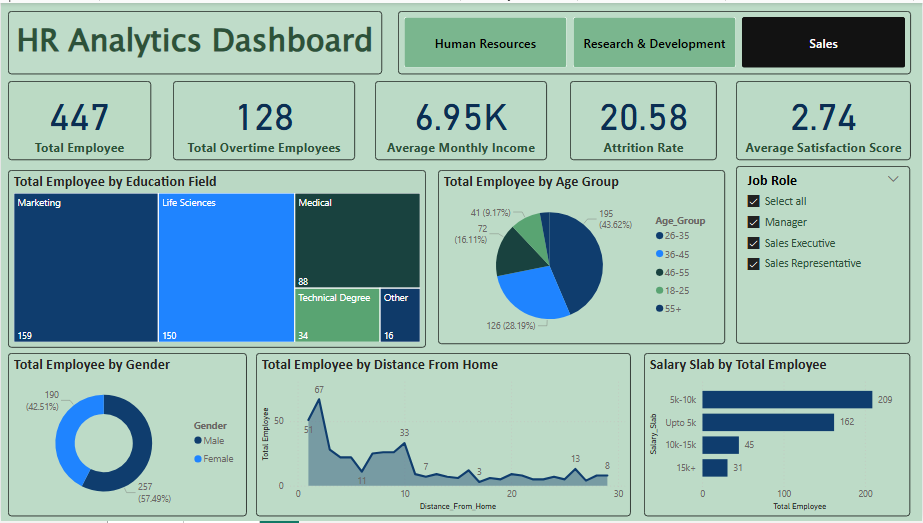

The page's visual inventory and layout, read from the dashboard file:
{"tool":"powerbi","page":{"name":"Page 1","canvas":[1280,720],"ordinal":0},"visuals":[{"type":"textbox","box":[9.7,11.1,519.8,87.6],"z":0},{"type":"card","fields":{"Values":["HR_Analytics.Total Employee"]},"box":[9.7,108.4,198.8,109.8],"z":1000},{"type":"card","fields":{"Values":["HR_Analytics.Attrition Rate"]},"box":[790.9,108.4,204.3,109.8],"z":2000},{"type":"card","fields":{"Values":["HR_Analytics.Total Overtime Employees"]},"box":[239.1,108.4,253,109.8],"z":3000},{"type":"card","fields":{"Values":["HR_Analytics.Average Monthly Income"]},"box":[519.8,108.4,239.1,109.8],"z":4000},{"type":"donutChart","fields":{"Category":["HR_Analytics.Gender"],"Y":["HR_Analytics.Total Employee"]},"box":[9.7,486.5,332.2,226.6],"z":5000},{"type":"pieChart","title":"Total Employee by Age Group","fields":{"Category":["HR_Analytics.Age_Group"],"Y":["HR_Analytics.Total Employee"]},"box":[607.4,232.1,398.9,241.9],"z":6000},{"type":"treemap","title":"Total Employee by Education Field","fields":{"Group":["HR_Analytics.Education_Field"],"Values":["HR_Analytics.Total Employee"]},"box":[9.7,232.1,581,247.4],"z":7000},{"type":"advancedSlicerVisual","fields":{"Values":["HR_Analytics.Department"]},"box":[551.8,11.1,713.1,87.6],"z":8000},{"type":"areaChart","title":"Total Employee by Distance From Home","fields":{"Category":["HR_Analytics.Distance_From_Home"],"Y":["HR_Analytics.Total Employee"]},"box":[354.4,486.5,521.2,226.6],"z":9000},{"type":"clusteredBarChart","title":"Salary Slab by Total Employee","fields":{"Category":["HR_Analytics.Salary_Slab"],"Y":["HR_Analytics.Total Employee"]},"box":[893.7,486.5,369.7,226.6],"z":10000},{"type":"slicer","fields":{"Values":["HR_Analytics.Job_Role"]},"box":[1021.6,226.6,241.9,247.4],"z":11000},{"type":"card","fields":{"Values":["HR_Analytics.Average Satisfaction Score"]},"box":[1021.6,108.4,243.2,109.8],"z":13000}]}

Visuals, with their boxes in screenshot pixels (x1, y1, x2, y2), scaled from the page's 1280x720 canvas onto the 923x523 screenshot:
textbox: [x1=7, y1=8, x2=382, y2=72]
card - HR_Analytics.Total Employee: [x1=7, y1=79, x2=150, y2=158]
card - HR_Analytics.Attrition Rate: [x1=570, y1=79, x2=718, y2=158]
card - HR_Analytics.Total Overtime Employees: [x1=172, y1=79, x2=355, y2=158]
card - HR_Analytics.Average Monthly Income: [x1=375, y1=79, x2=547, y2=158]
donutChart - HR_Analytics.Gender x HR_Analytics.Total Employee: [x1=7, y1=353, x2=247, y2=518]
"Total Employee by Age Group" pieChart: [x1=438, y1=169, x2=726, y2=344]
"Total Employee by Education Field" treemap: [x1=7, y1=169, x2=426, y2=348]
advancedSlicerVisual - HR_Analytics.Department: [x1=398, y1=8, x2=912, y2=72]
"Total Employee by Distance From Home" areaChart: [x1=256, y1=353, x2=631, y2=518]
"Salary Slab by Total Employee" clusteredBarChart: [x1=644, y1=353, x2=911, y2=518]
slicer - HR_Analytics.Job_Role: [x1=737, y1=165, x2=911, y2=344]
card - HR_Analytics.Average Satisfaction Score: [x1=737, y1=79, x2=912, y2=158]
